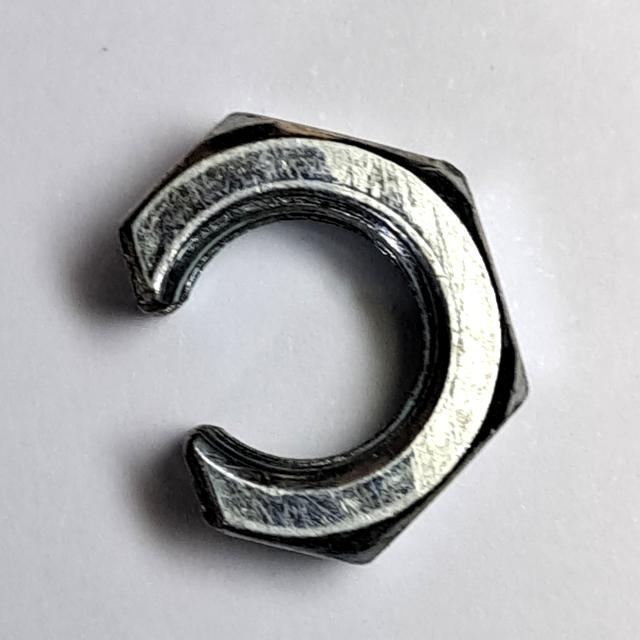Fracture: (104, 100, 541, 576)
